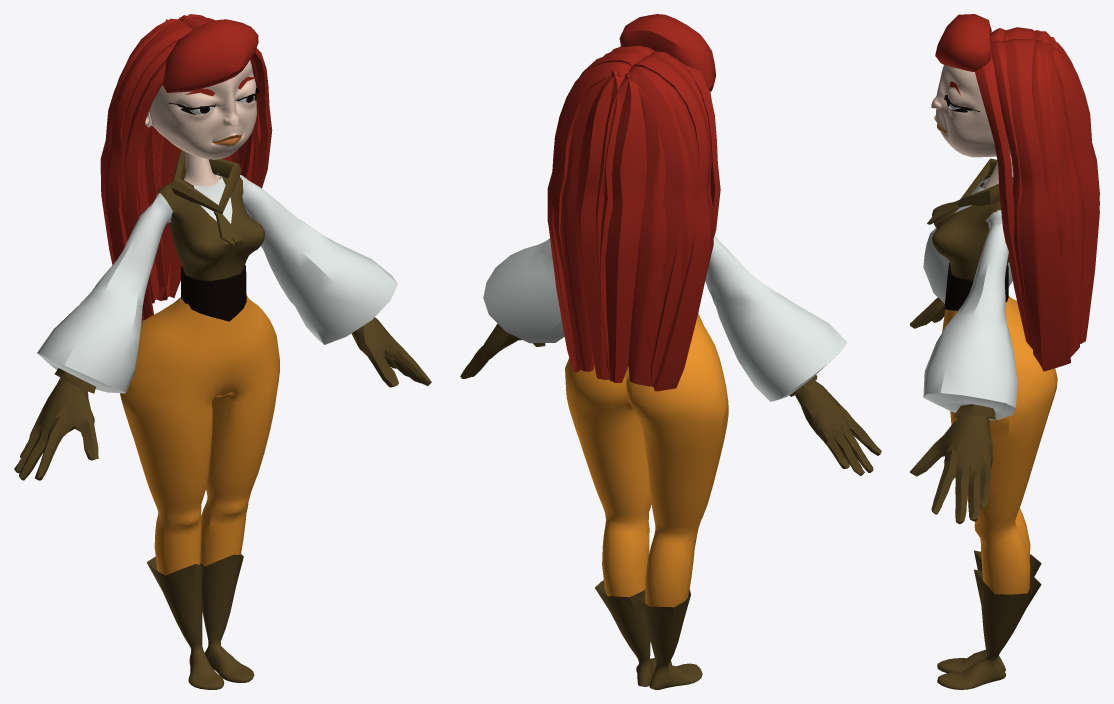
File: Victorian_character.fbx
3 views of the same model, side by side, from view 1: azimuth 30°, elevation 25°; view 2: azimuth 150°, elevation 25°; view 3: azimuth 270°, elevation 25° (orthographic).
Visible parts, largest first — view 1: pCube20; view 2: pCube20; view 3: pCube20.
Boxes of the visible parts, x1=… form: pCube20: x1=14, y1=14, x2=431, y2=689; pCube20: x1=460, y1=14, x2=881, y2=689; pCube20: x1=910, y1=14, x2=1099, y2=689.
Size of the model in its own units: 25.02 by 38.64 by 10.08.
